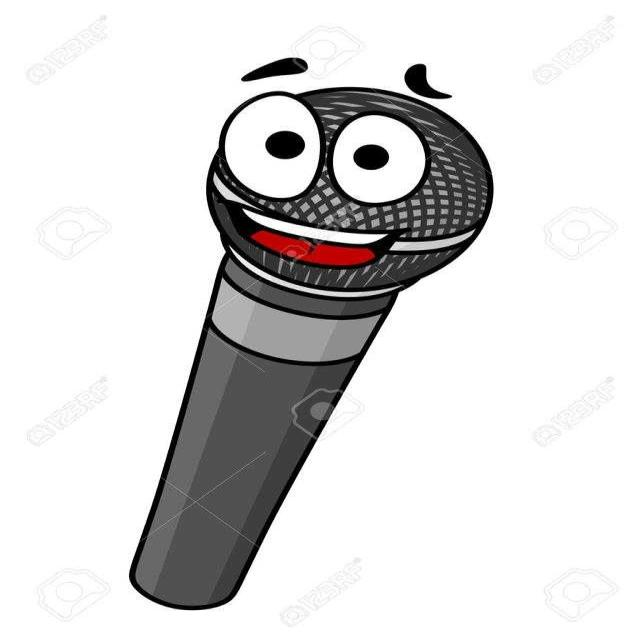microphone: (134, 64, 496, 606)
